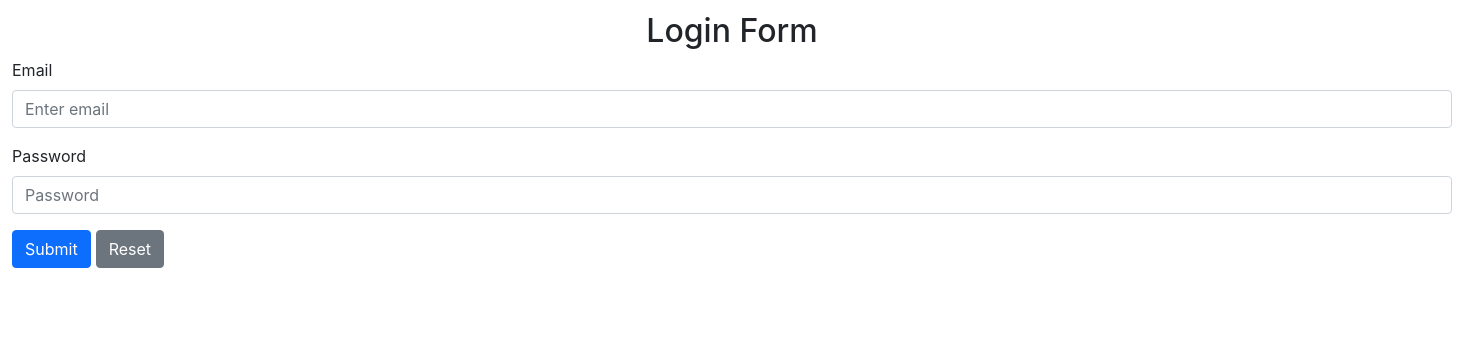
Test case: Test the Login Component › should display alert if error
Type "avinash" into the field with placeholder "Enter email" at (732, 109), box [12,90,1452,128]
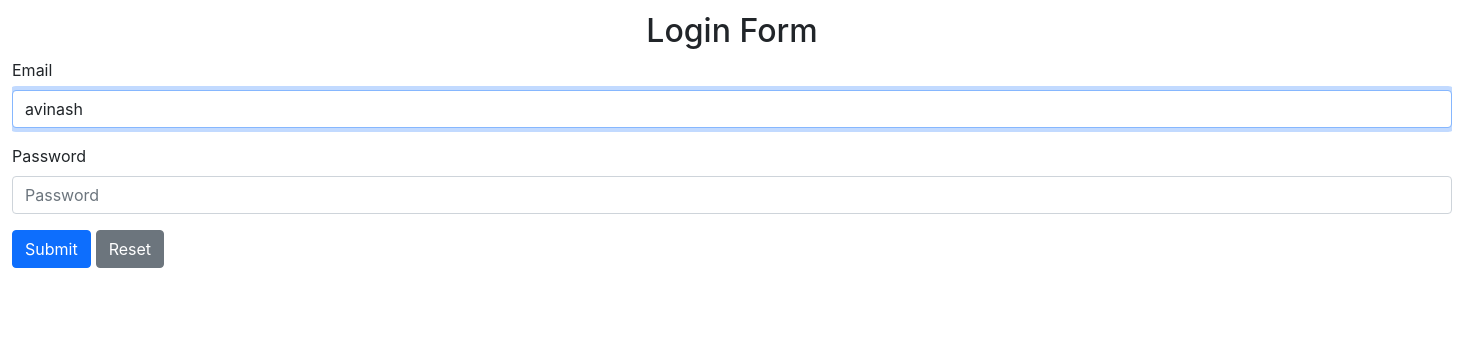
Type "123456" into the password field with placeholder "Password" at (732, 195), box [12,176,1452,214]
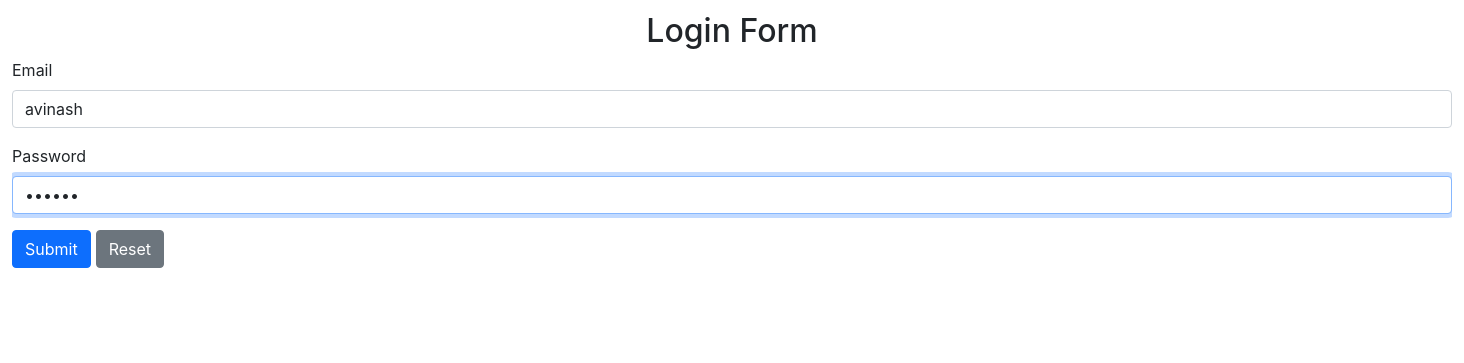
Click the button "Submit" at (51, 249), box [12,230,91,268]
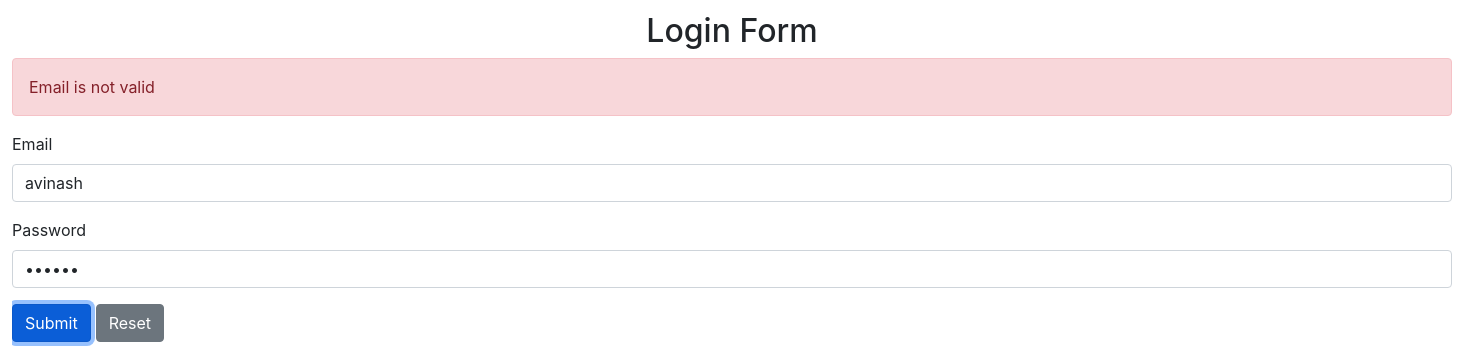
Expected: the text "Email is not valid" is shown, [12,58,1452,116]
